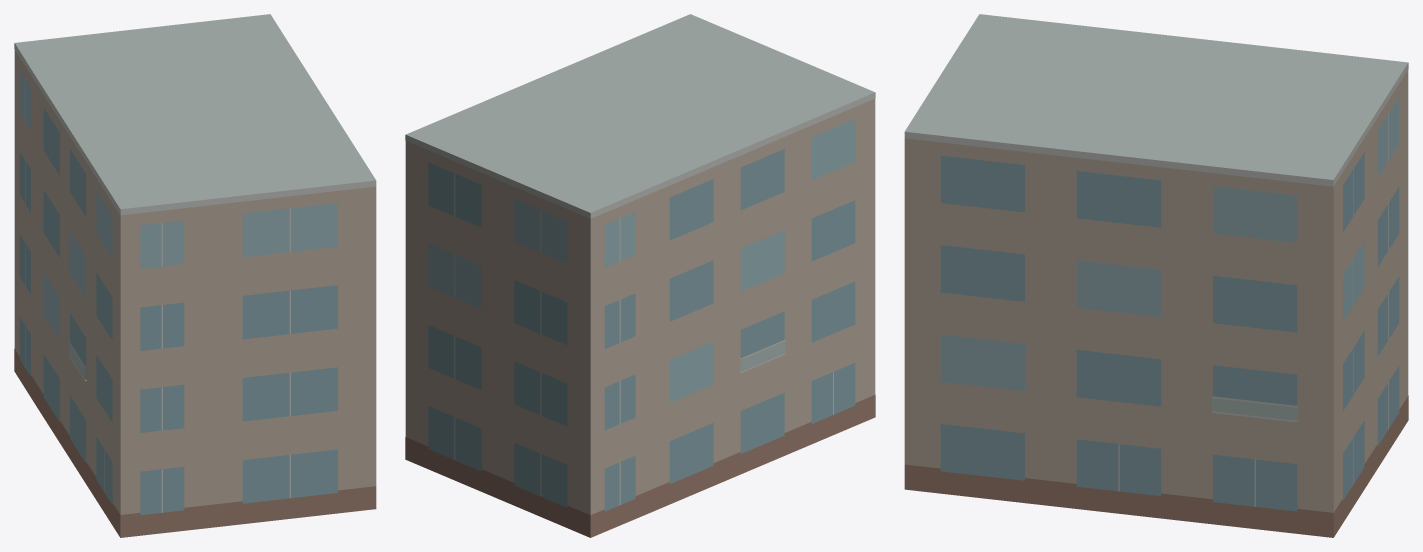
Rendered from survey-upis-32904601.glb.
3 views of the same model, side by side, from view 1: azimuth 30°, elevation 25°; view 2: azimuth 150°, elevation 25°; view 3: azimuth 270°, elevation 25° (orthographic). The views are drawn at different scales.
Visible parts, largest first — view 1: survey-upis-32904601.tmp; view 2: survey-upis-32904601.tmp; view 3: survey-upis-32904601.tmp.
Boxes of the visible parts, x1,y1,x2,y2 form: survey-upis-32904601.tmp: (14, 14, 376, 537); survey-upis-32904601.tmp: (405, 14, 875, 537); survey-upis-32904601.tmp: (904, 14, 1408, 537).
Bounding box in the file's own units: 13.15 × 13.2 × 16.86.
